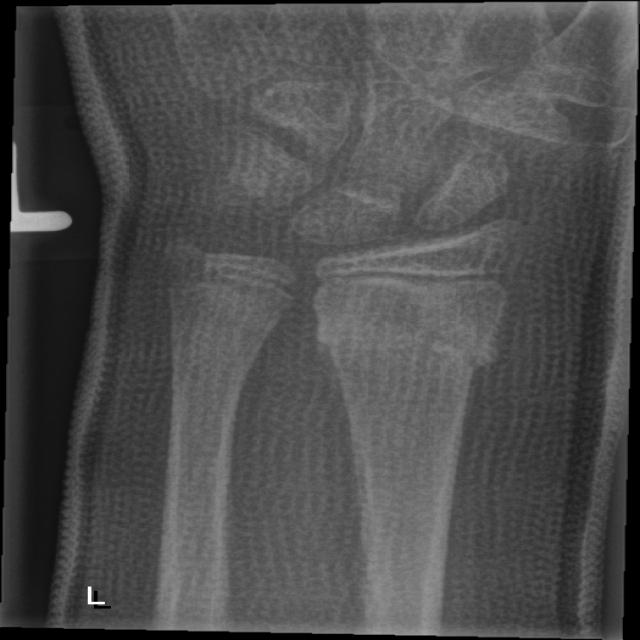radius fracture: (291, 298, 534, 425)
